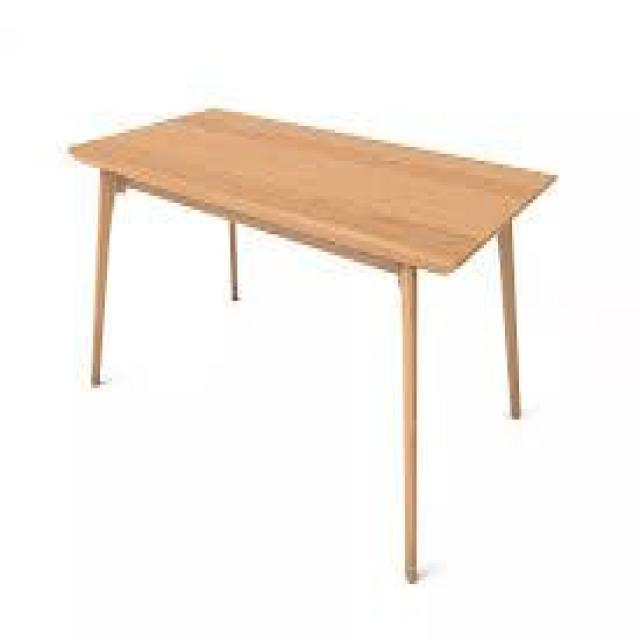table: (43, 39, 578, 608)
